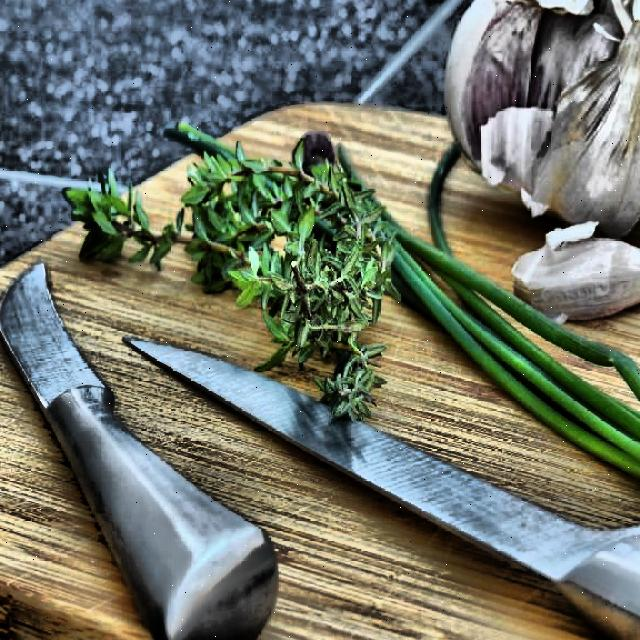knife: (124, 324, 640, 640), (0, 256, 281, 640)
